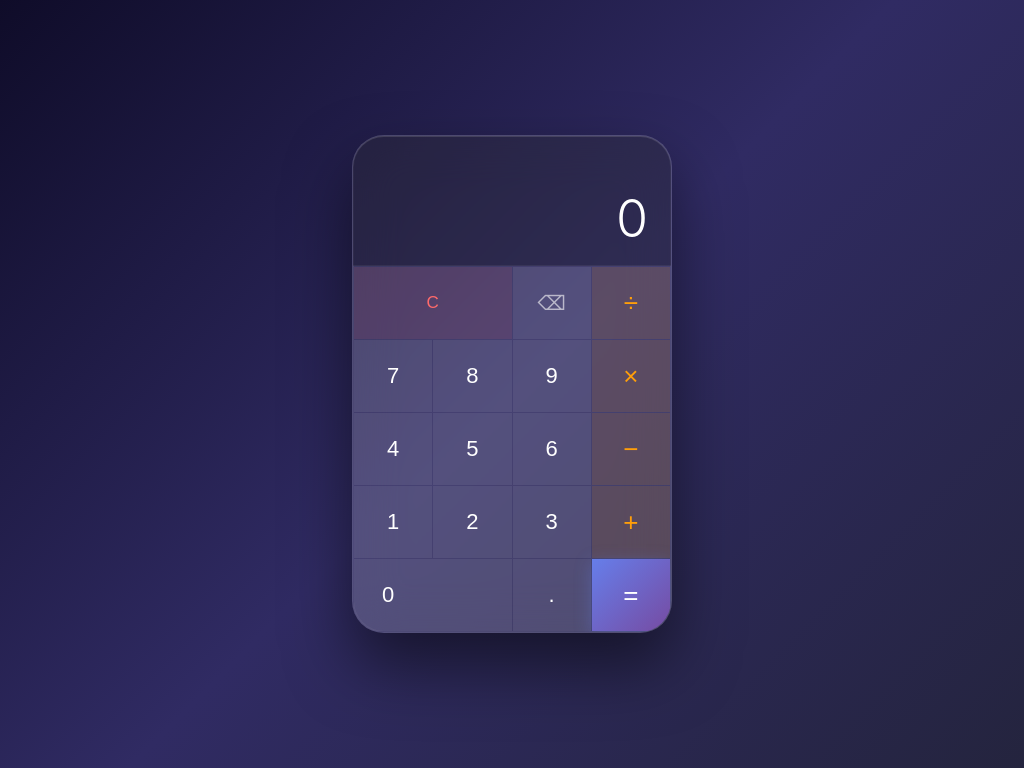
Test: [INV-1] 0 나누기 방어 — UI 레벨 › 에러 메시지 role="alert" 접근성 속성
Step 1. Click the button "5" → x=472, y=449, box 433,413 -> 512,485
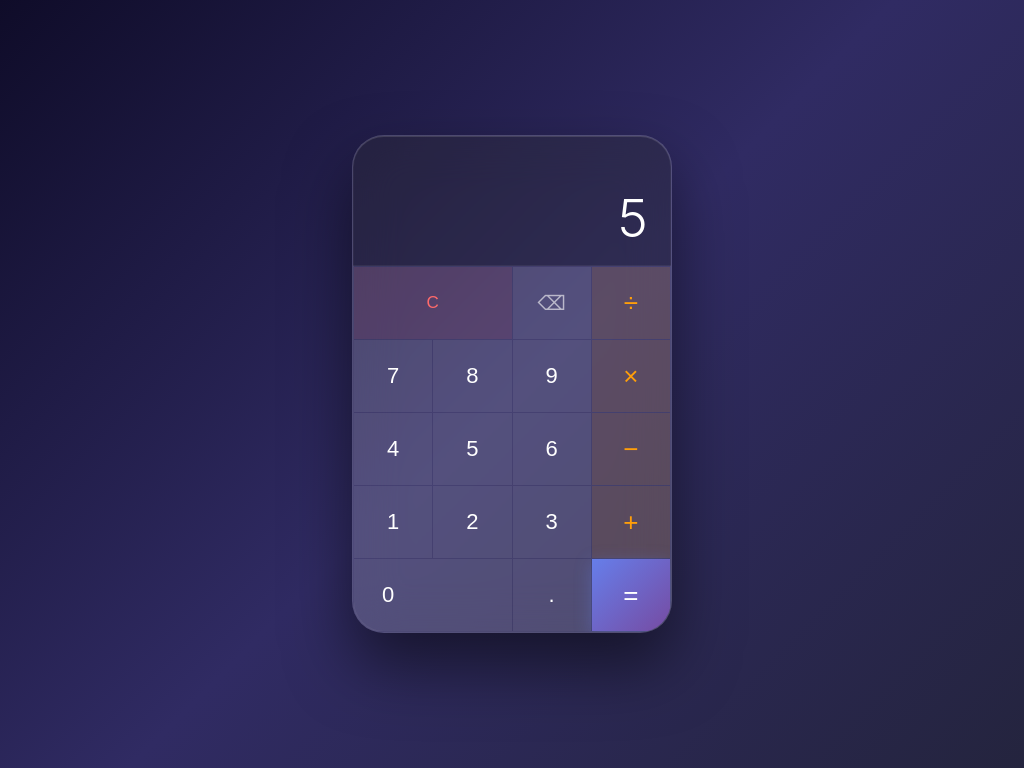
Step 2. Click the button "÷" → x=631, y=303, box 592,267 -> 670,339
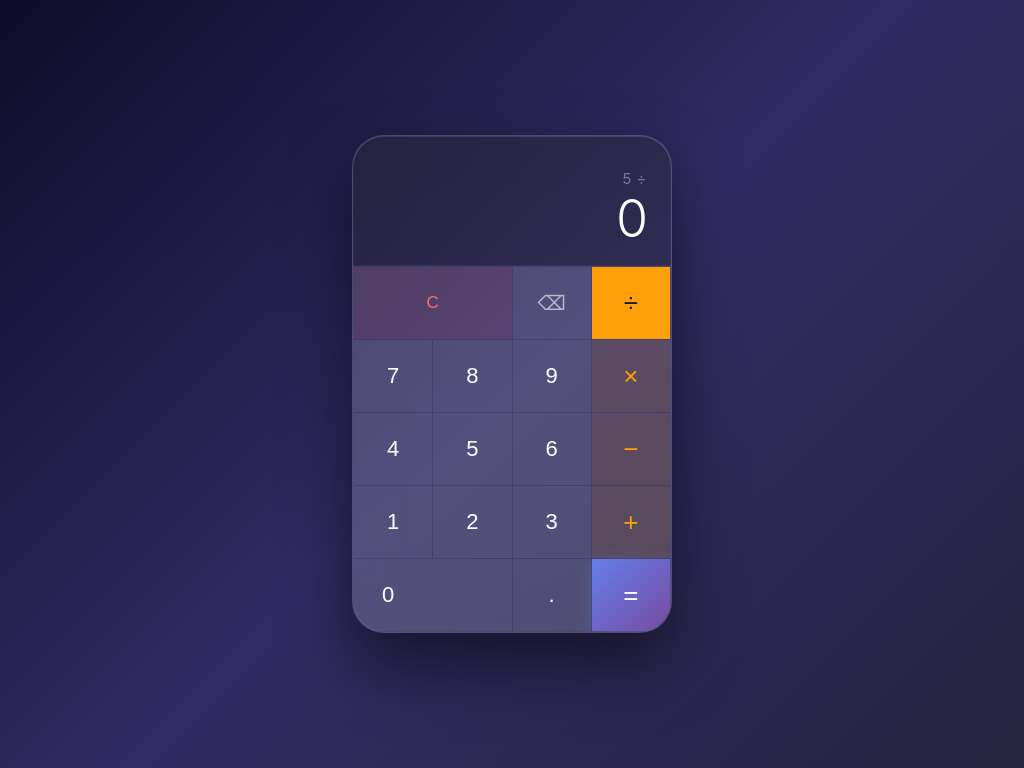
Step 3. Click the button with test id "key-0" → x=433, y=595, box 354,559 -> 512,631
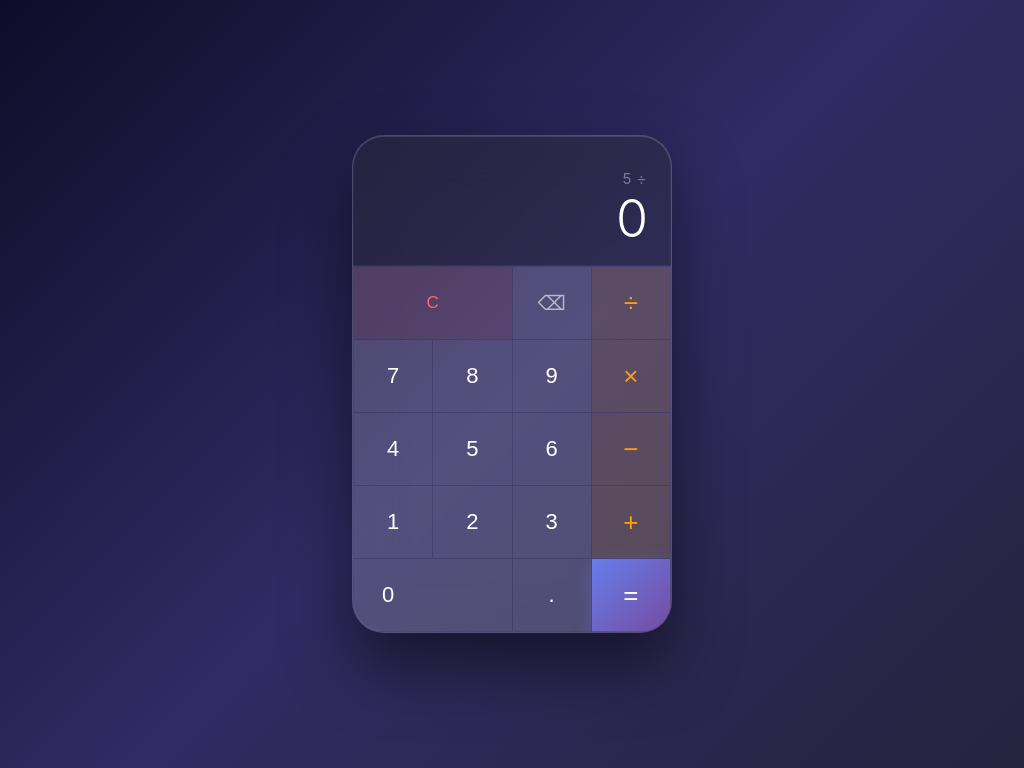
Step 4. Click the button with test id "key-equals" → x=631, y=595, box 592,559 -> 670,631
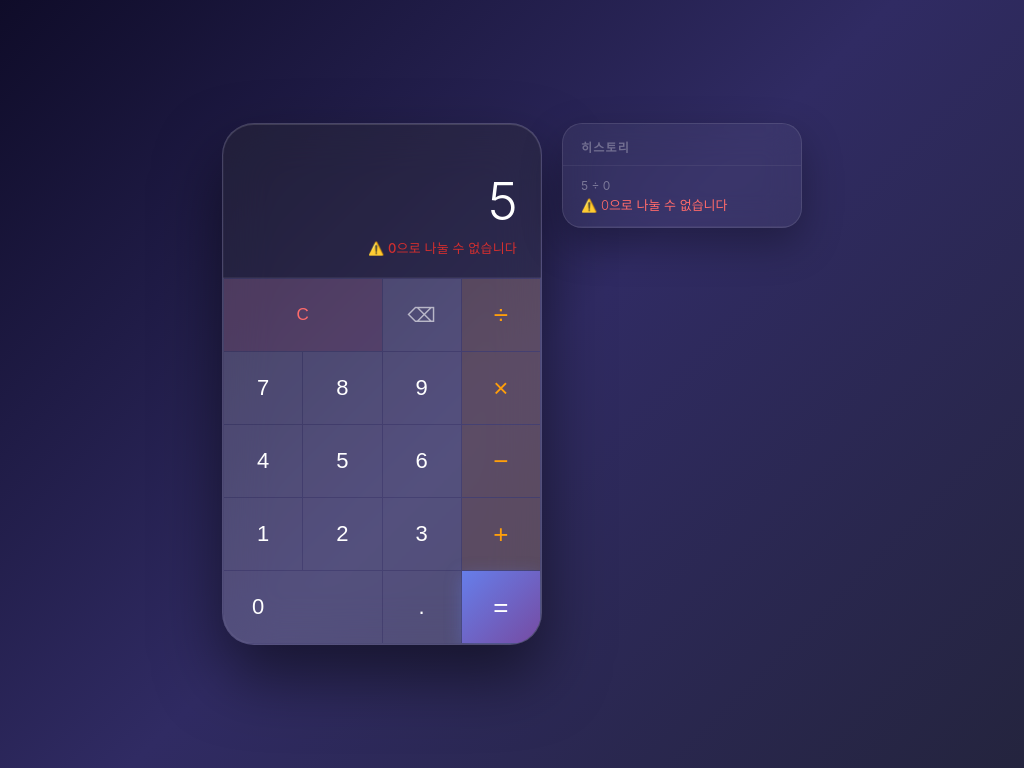
Check: the message "5 ⚠️ 0으로 나눌 수 없습니다" is shown, box 223,124 -> 541,278
